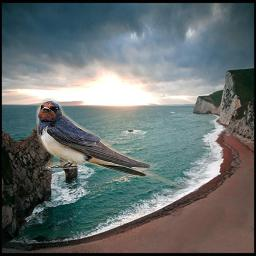Swallow: (36, 98, 186, 188)
